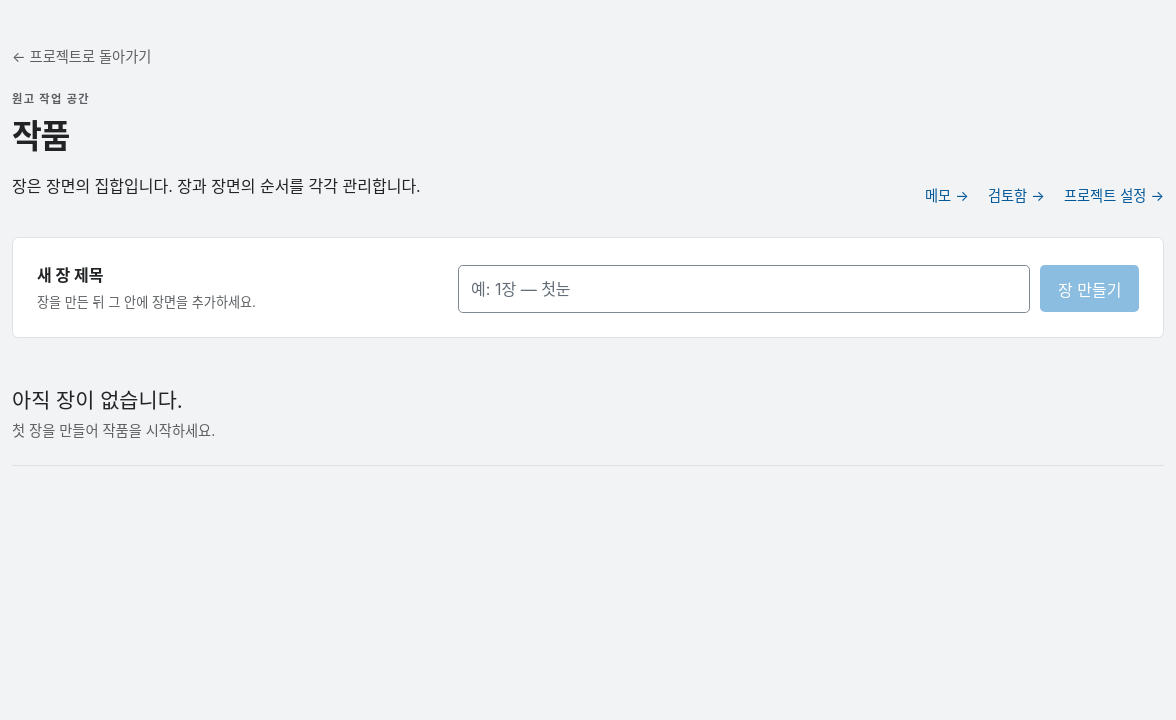
Test: DraftList Chapter→Scene hierarchy › creates a chapter then creates a scene with its required chapter_id
Expected: the text "아직 장이 없습니다." is shown, [12, 388, 183, 413]
In the field labelled "새 장 제목": (744, 289) [458, 265, 1030, 313], type "  1장  "
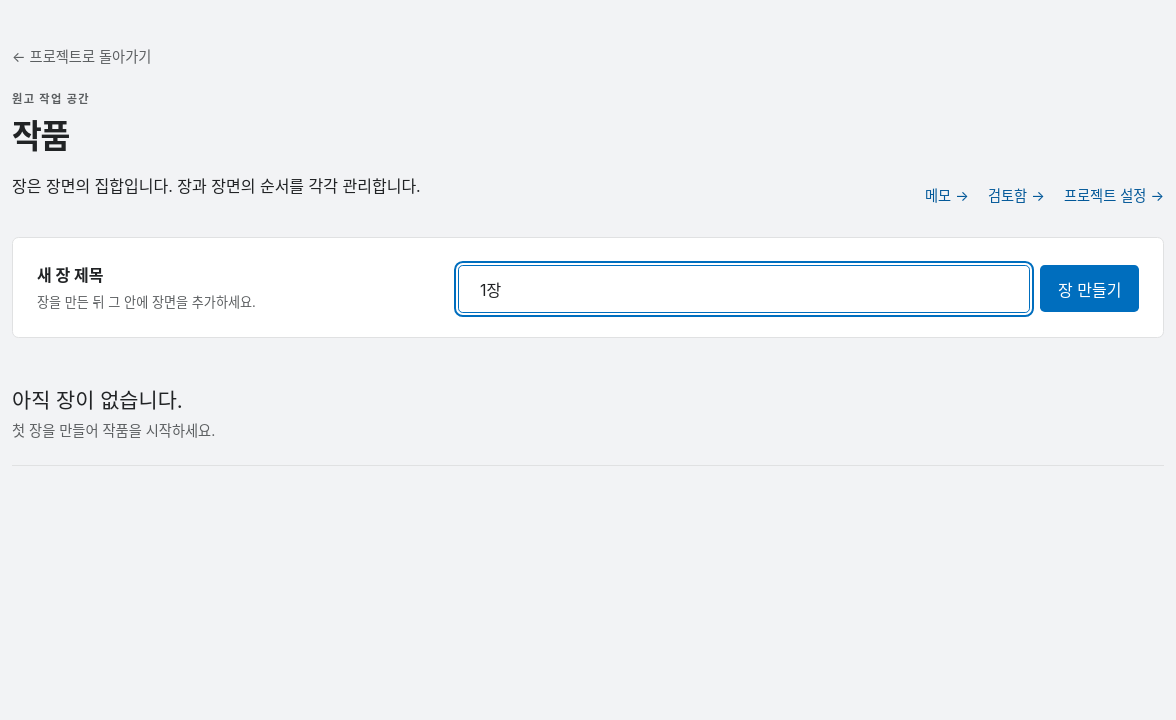
Click the button "장 만들기": (1090, 289) [1040, 265, 1139, 312]
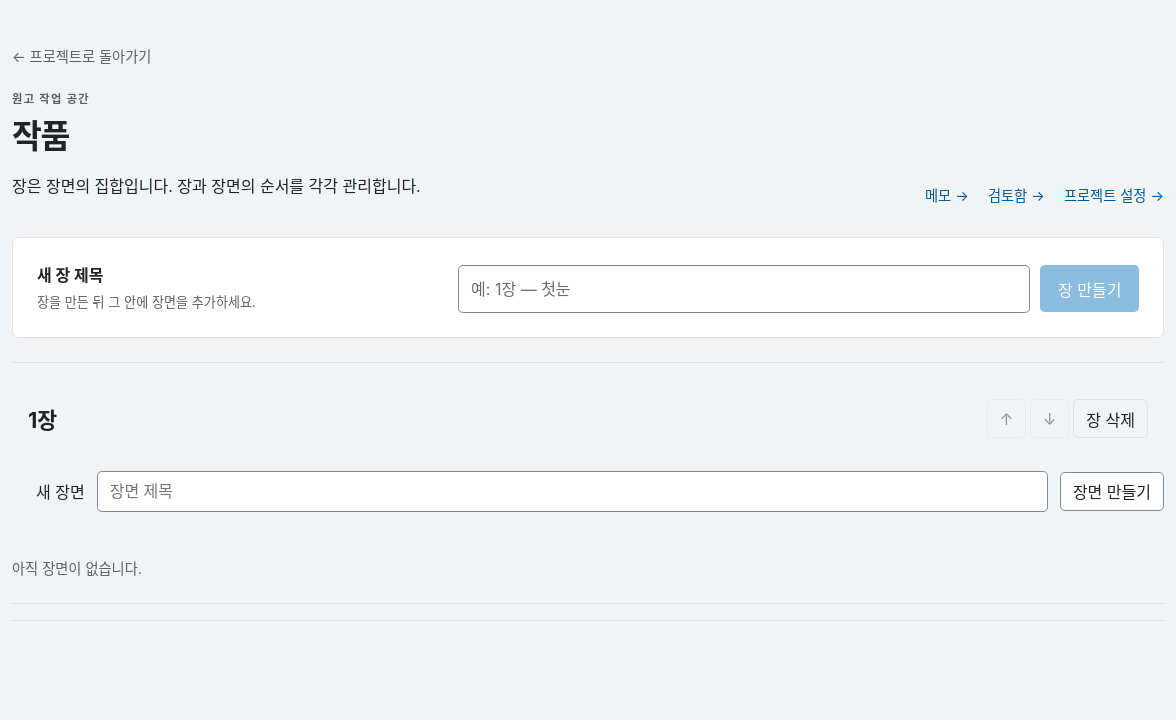
Now the text "아직 장면이 없습니다." is shown, box [12, 536, 1164, 604]
In the field labelled "새 장면": (572, 491) [97, 471, 1048, 512], type "첫 장면"
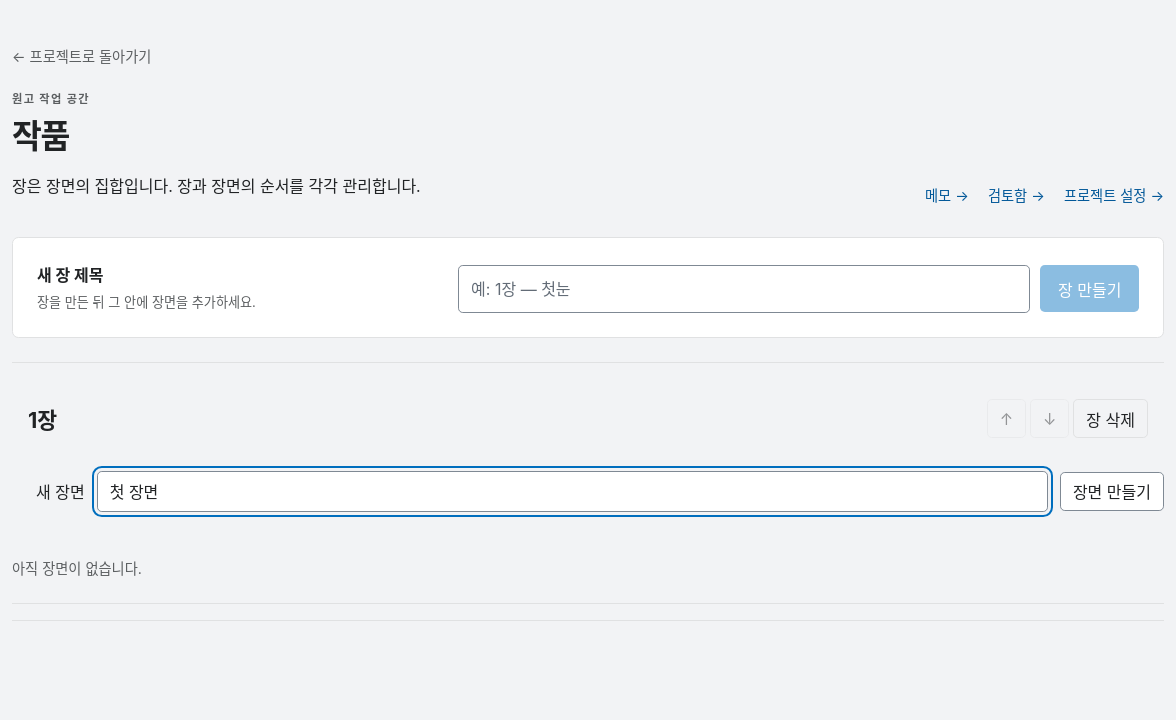
Click the button "장면 만들기": (1112, 491) [1060, 472, 1164, 511]
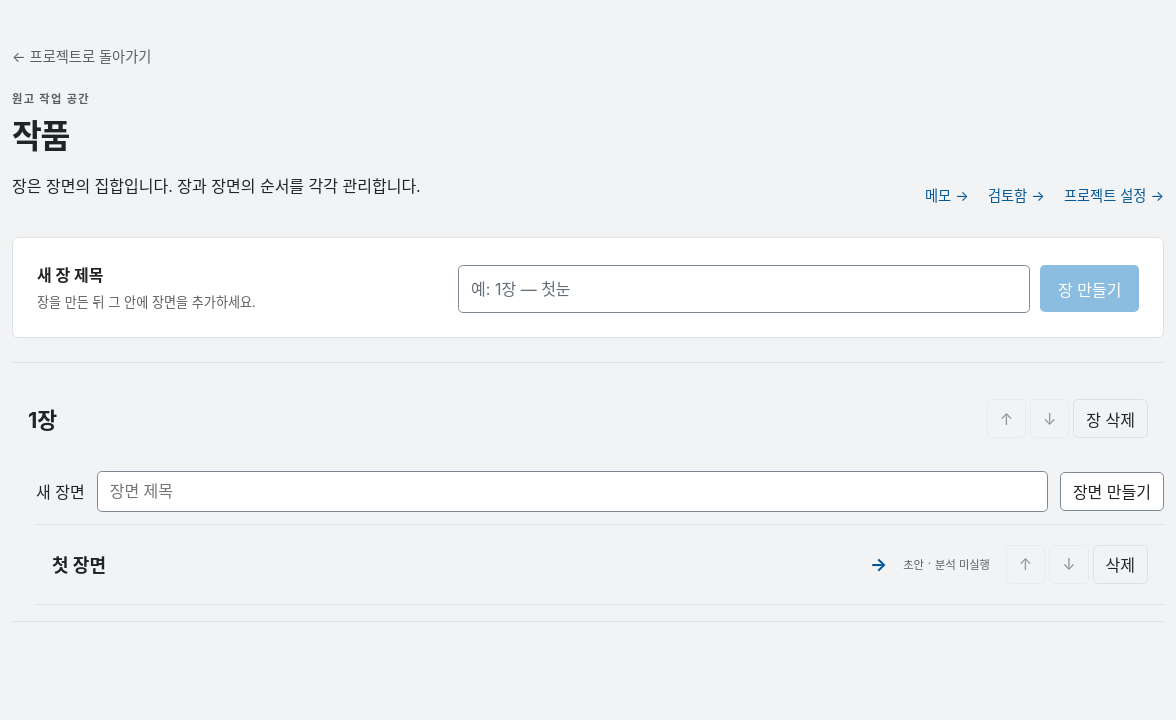
Now the link "첫 장면 →" is shown, box [52, 554, 887, 576]
